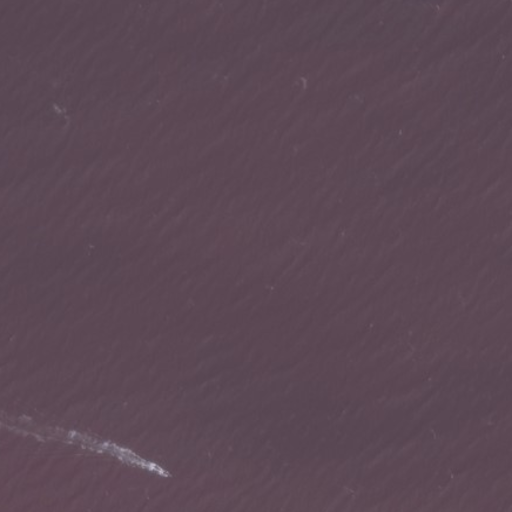ship: (156, 463, 173, 483)
